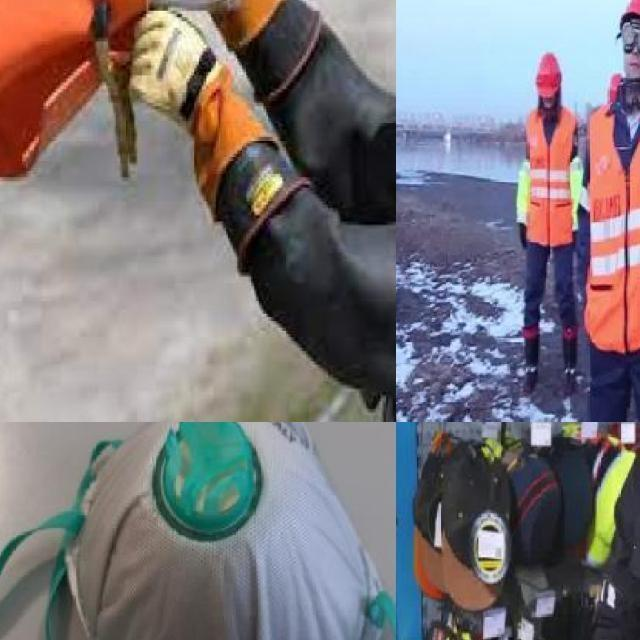apron: (128, 4, 248, 221), (518, 218, 528, 250)
